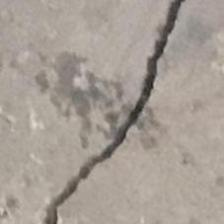Crack: (30, 0, 191, 224)
